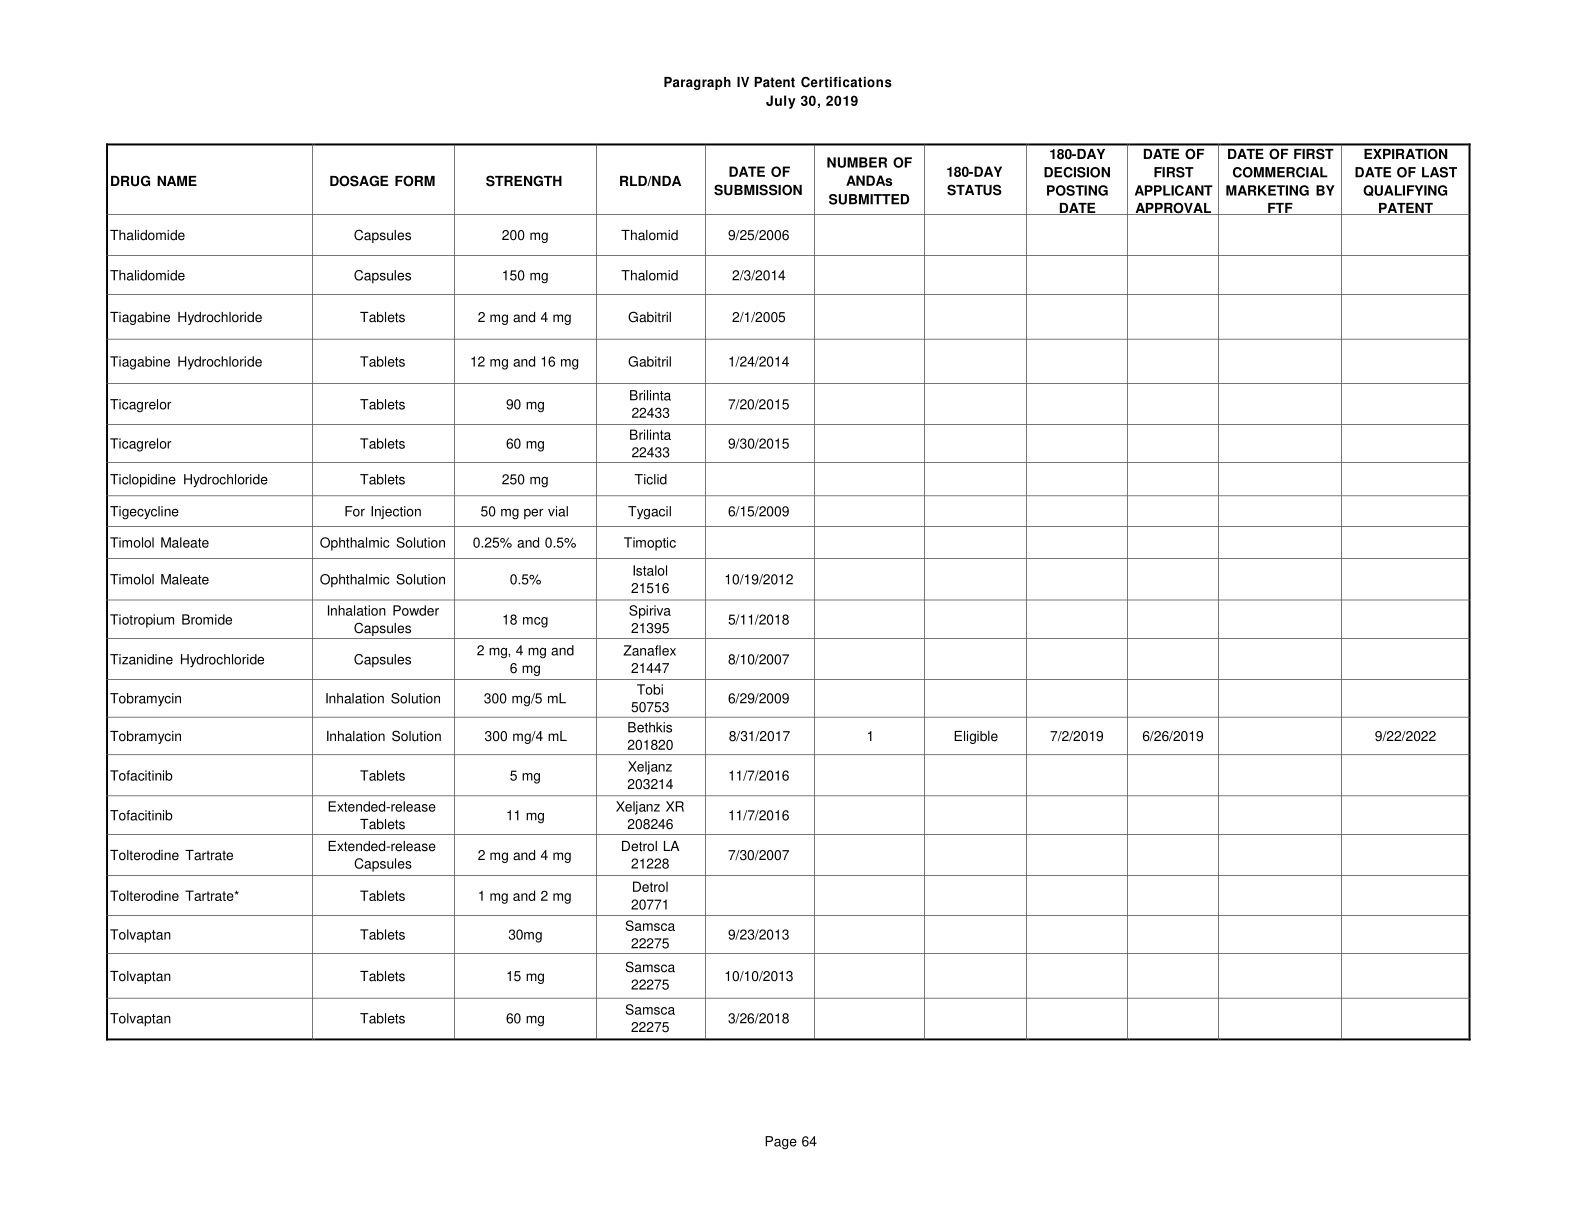full_lined: (105, 143, 1472, 1041)
